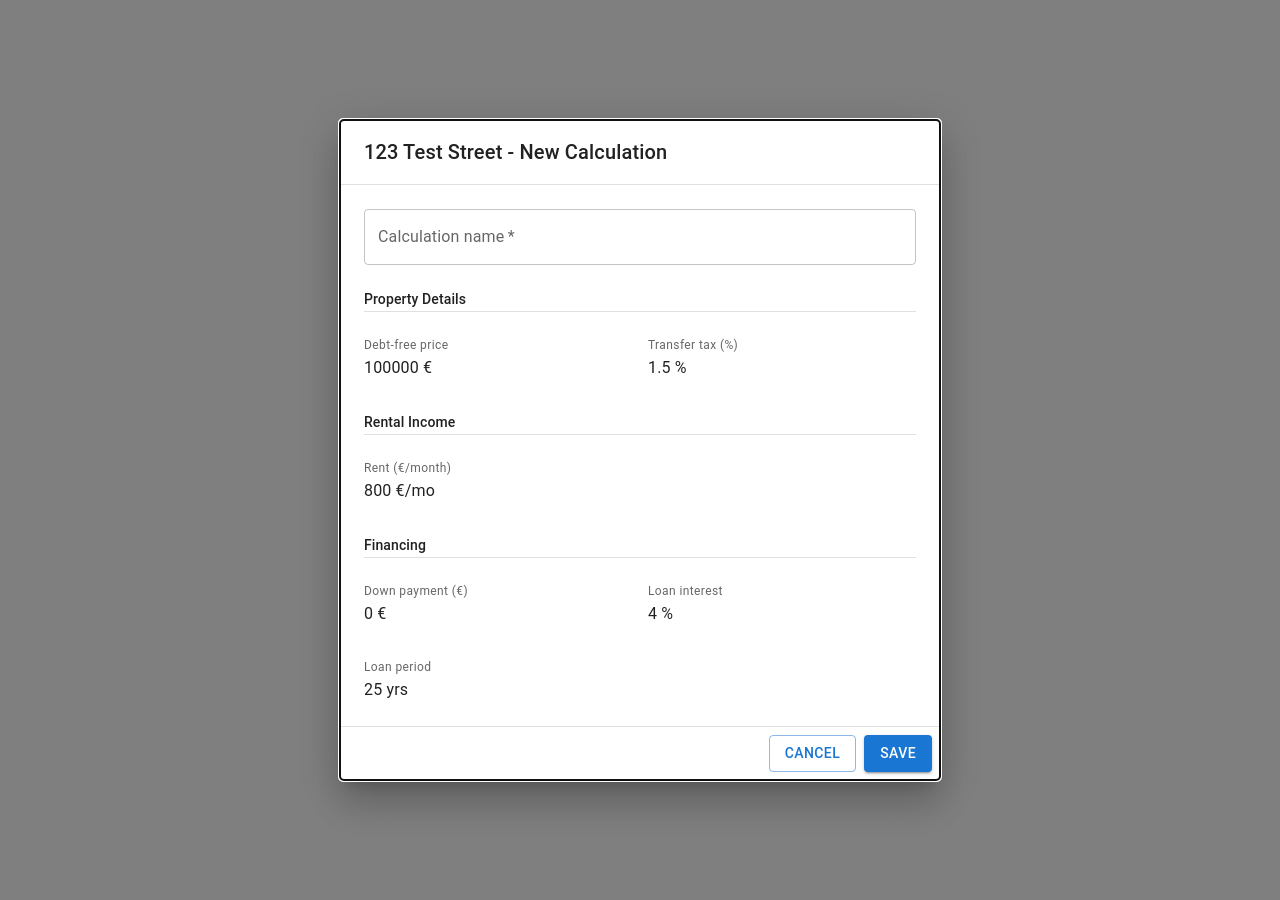
Test: InvestmentAddDialog › form submission › validates name field is required
Note: Try to save without filling name
Click the button "Save".
click(898, 753)  # box left=864, top=735, right=932, bottom=772
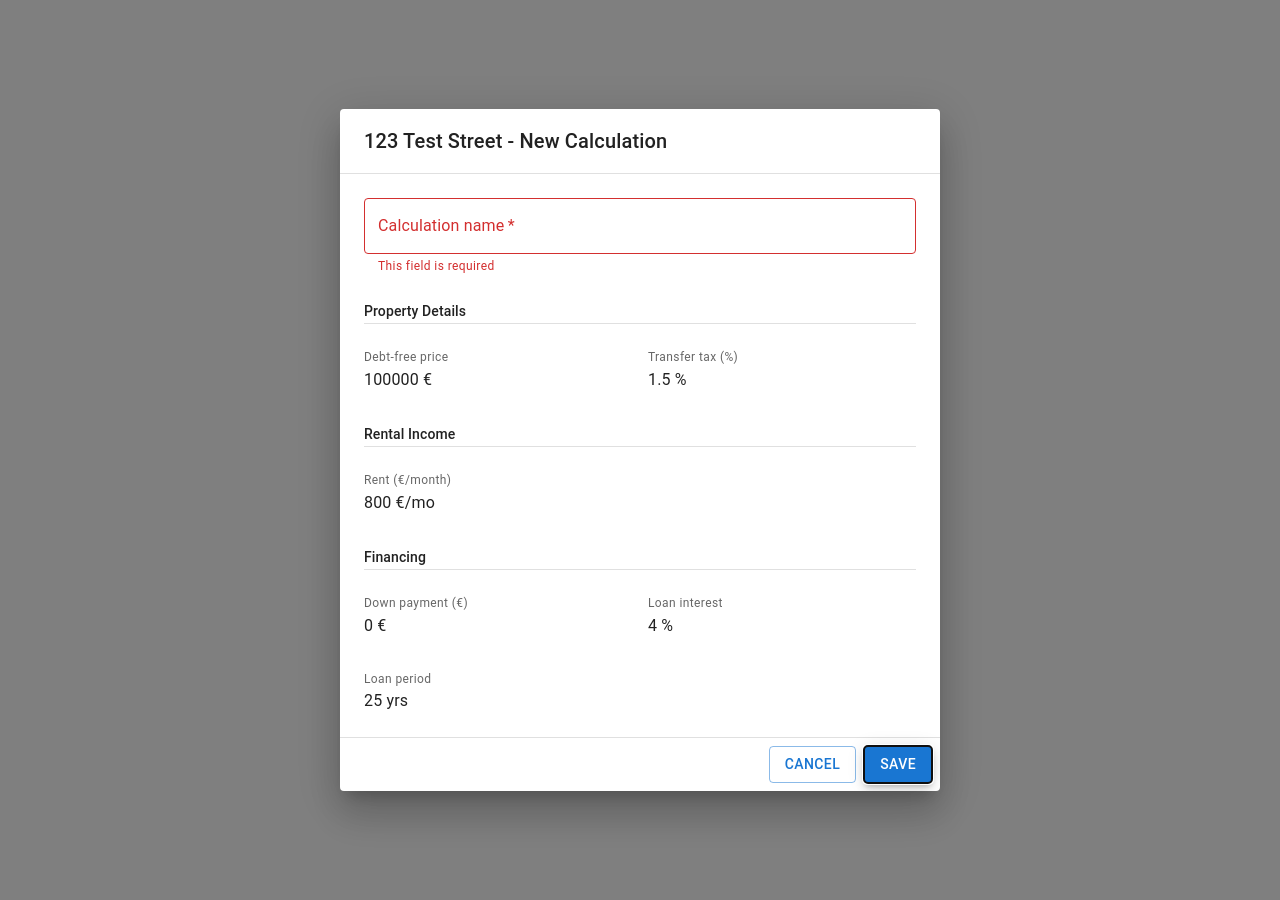
Now the text "This field is required" is shown, box left=378, top=259, right=495, bottom=273
